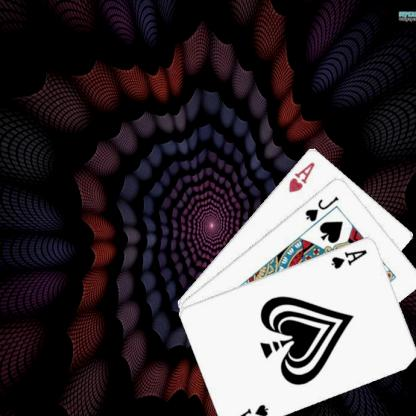AH: (285, 158, 316, 194)
AS: (328, 247, 368, 270), (229, 401, 270, 416)
JS: (302, 193, 340, 223)
